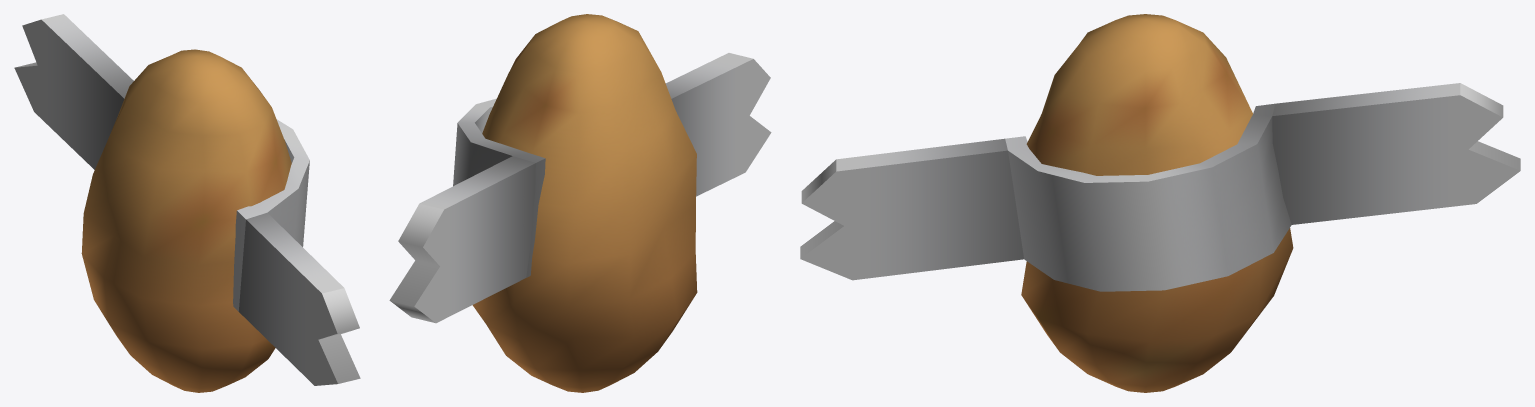
File: potato.fbx
3 views of the same model, side by side, from view 1: azimuth 30°, elevation 25°; view 2: azimuth 150°, elevation 25°; view 3: azimuth 270°, elevation 25° (orthographic). The views are drawn at different scales.
Visible parts, largest first — view 1: potato; view 2: potato; view 3: potato.
Part boxes in pixels (bbox=[...]): potato: bbox=[14, 14, 360, 392]; potato: bbox=[389, 14, 771, 392]; potato: bbox=[800, 14, 1520, 392].
Bounding box in the file's own units: 2.87 × 4.91 × 8.76.
